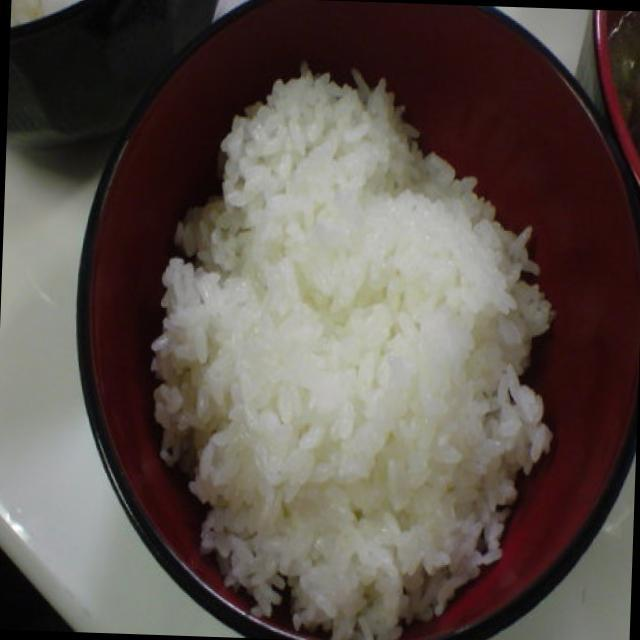Rice: (144, 46, 555, 600)
